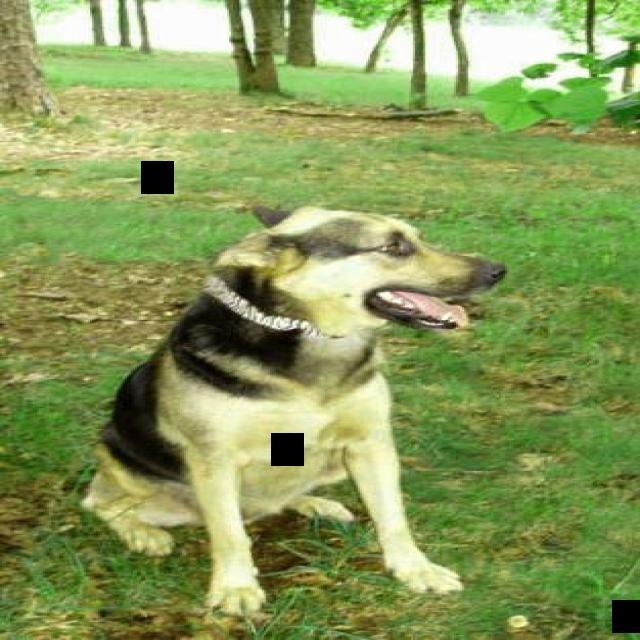adult_dog: (69, 198, 507, 624)
